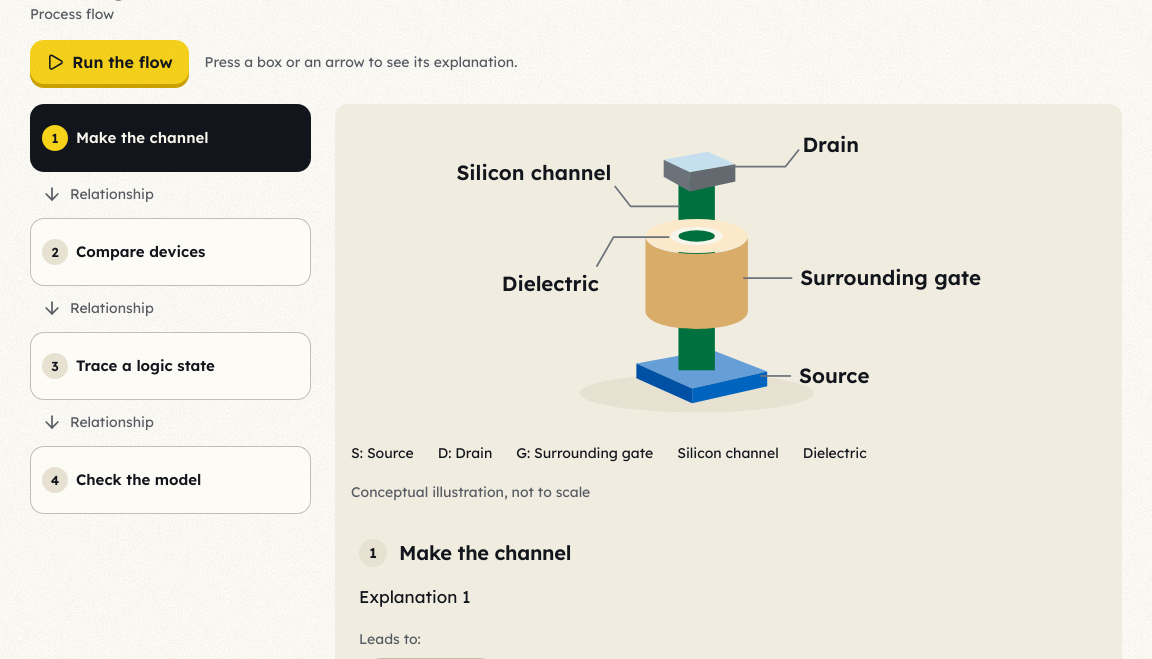
Test: keeps relationships accessible and next-step navigation direct
What coordinates should you click on to do the following:
click the button with aria-label "Arrow from “Make the channel” to “Compare devices”"
I would click on:
 (112, 194)
Its box is [30,172,311,216].
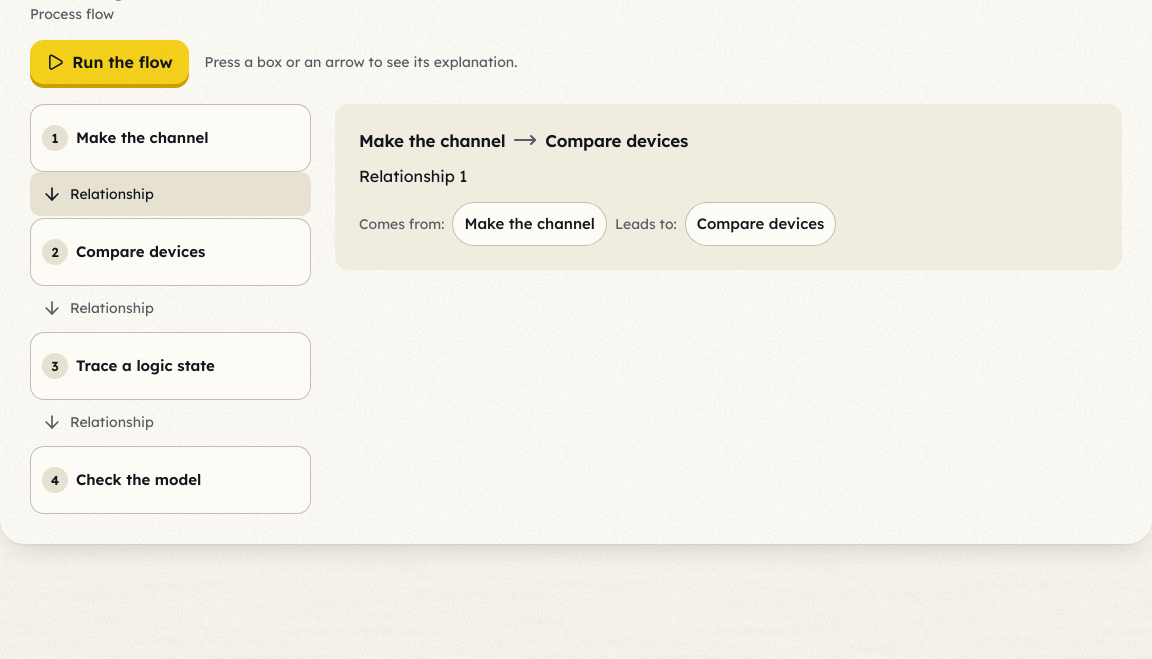
Check: the text "Relationship 1" is shown, box [359,166,467,186]
What coordinates should you click on to do the following:
click the button "Compare devices"
I would click on:
 (761, 224)
Its box is [685,202,836,246].
(page scrolled)
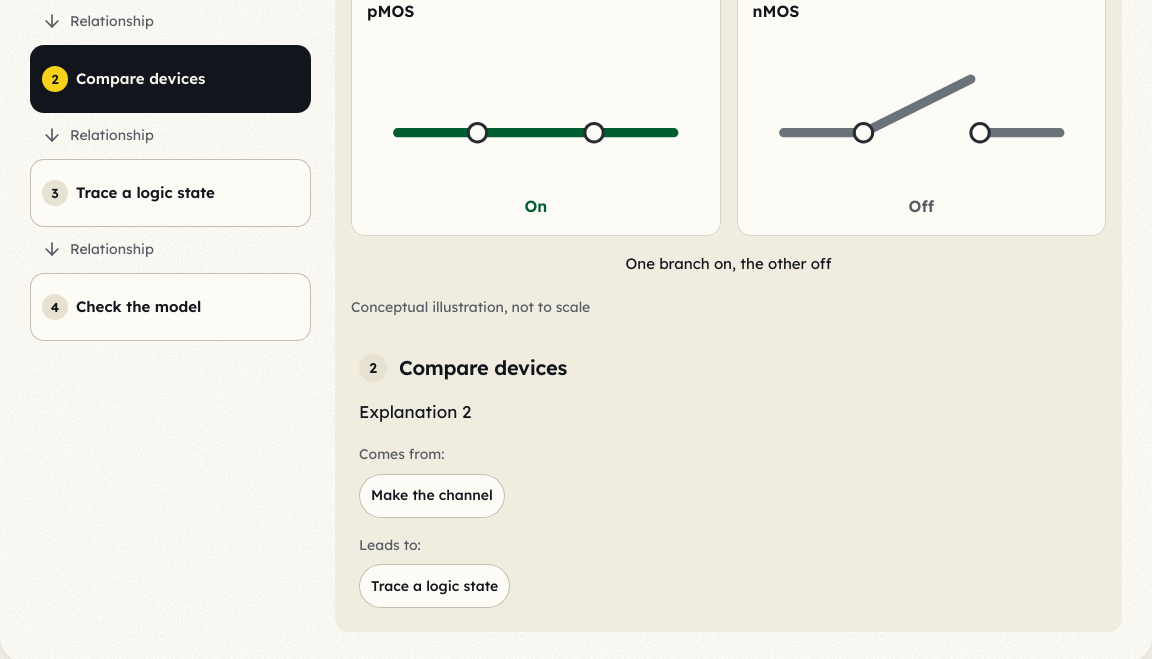
What coordinates should you click on to do the following:
click the button "Trace a logic state"
I would click on:
 (435, 586)
Its box is [359,564,510,608].
(page scrolled)
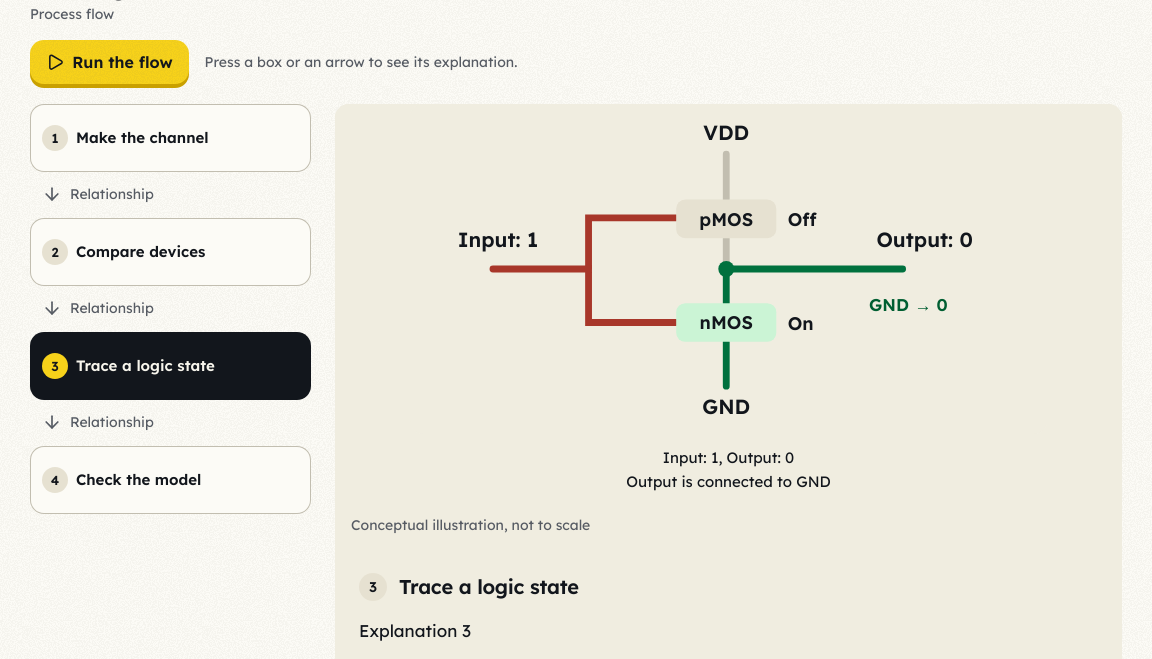
Check: the picture named "Trace a logic state" is shown, box [335,104,1122,434]
